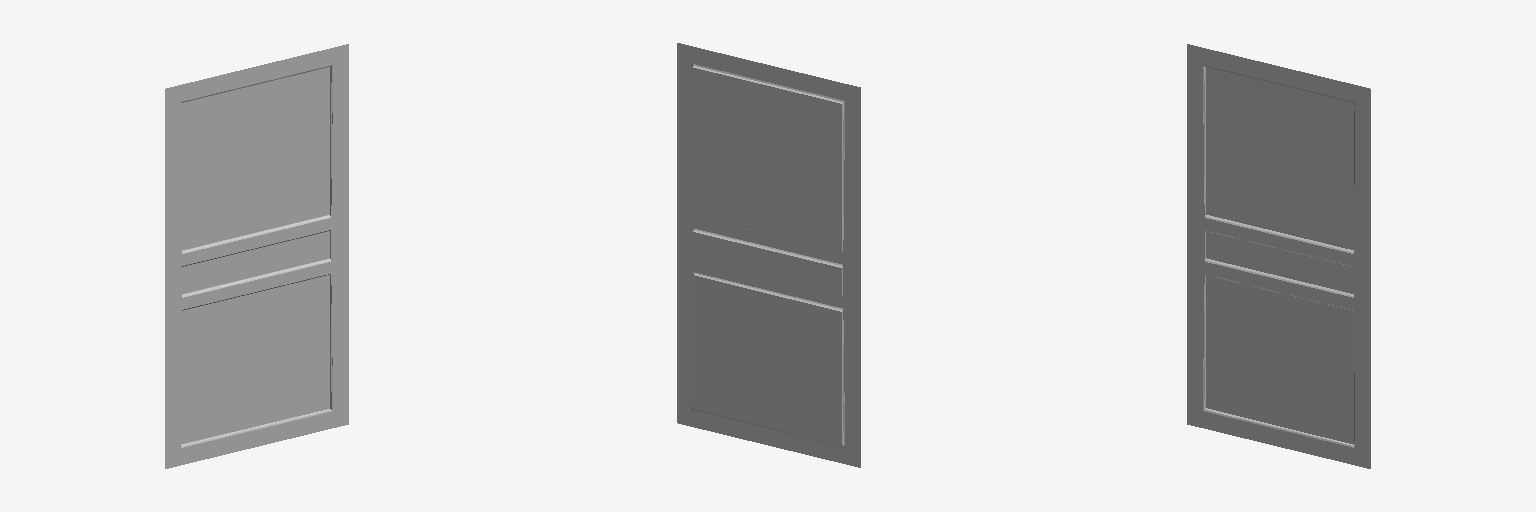
Rendered from Door.obj.
3 views of the same model, side by side, from view 1: azimuth 30°, elevation 25°; view 2: azimuth 150°, elevation 25°; view 3: azimuth 330°, elevation 25° (orthographic).
Visible parts, largest first — view 1: Door_Cube.018; view 2: Door_Cube.018; view 3: Door_Cube.018.
Boxes of the visible parts, x1,y1,x2,y2 form: Door_Cube.018: [165, 44, 348, 468]; Door_Cube.018: [677, 43, 860, 467]; Door_Cube.018: [1187, 44, 1370, 468].
Bounding box in the file's own units: 1 × 1.97 × 0.0159.